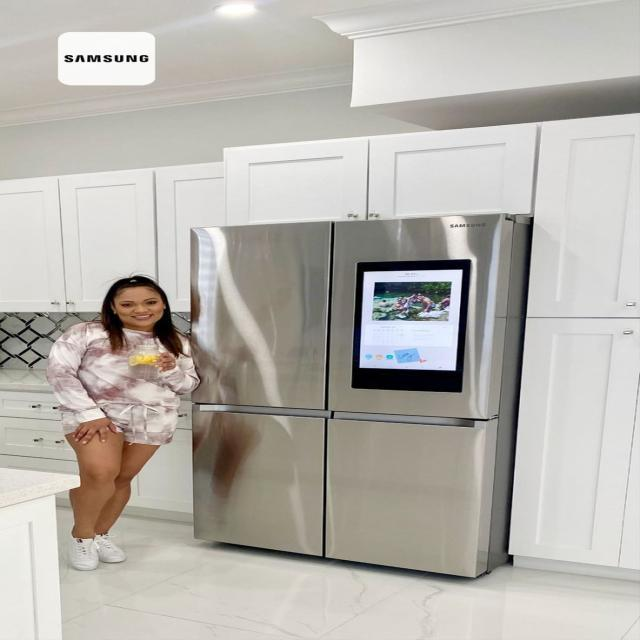obstacle: (187, 212, 533, 578), (222, 121, 538, 225), (522, 112, 640, 318), (0, 166, 157, 312)
person: (44, 274, 200, 570)
